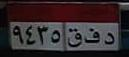3: (37, 24, 48, 46)
4: (24, 24, 36, 47)
5: (50, 29, 61, 45)
9: (11, 23, 23, 46)
daal: (102, 29, 115, 47)
faa: (83, 26, 101, 45)
qaaf: (66, 26, 83, 48)
